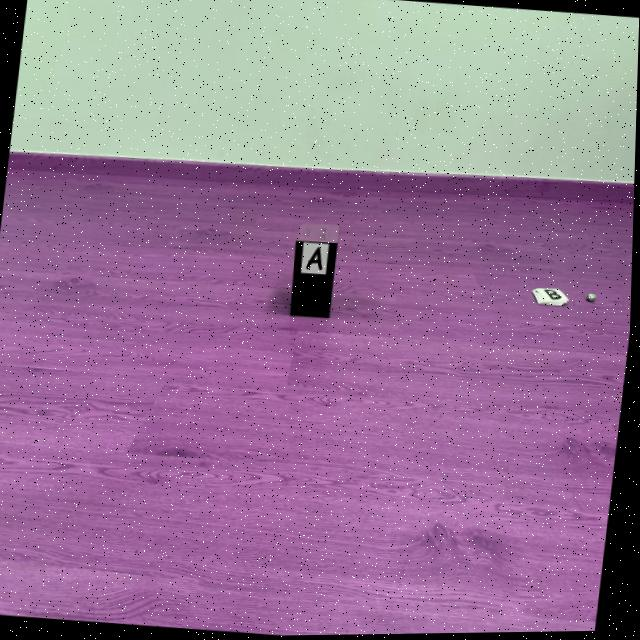A: (308, 248, 323, 270)
